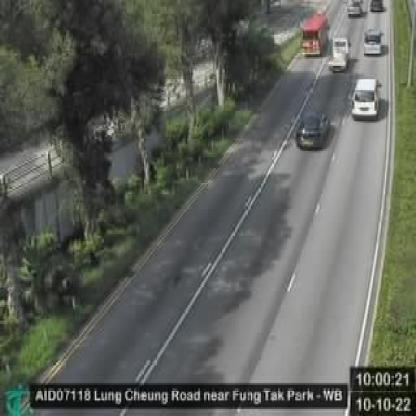Car: (298, 110, 332, 150), (352, 76, 379, 120), (330, 36, 350, 75), (365, 27, 383, 55), (348, 0, 364, 16), (372, 1, 385, 12)
Minibus: (301, 13, 328, 60)
